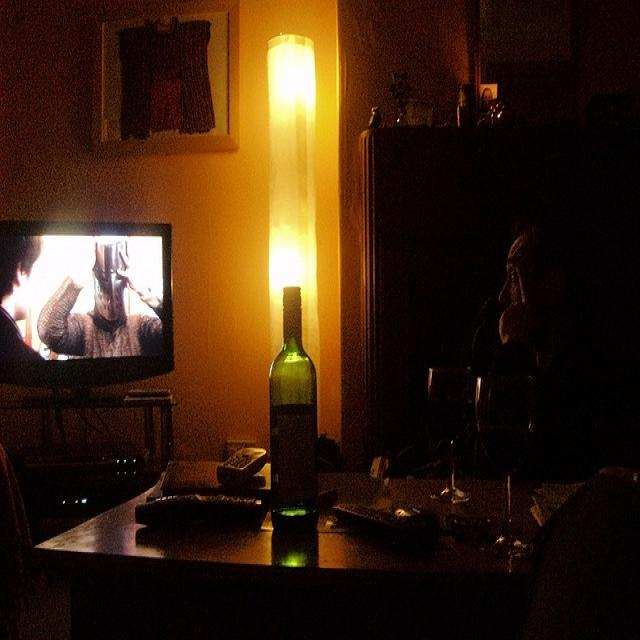Bottle: (260, 275, 345, 560)
Cup: (481, 362, 541, 543), (420, 347, 482, 501)
People: (479, 211, 640, 434)
Table: (37, 431, 640, 640), (0, 365, 201, 531)
